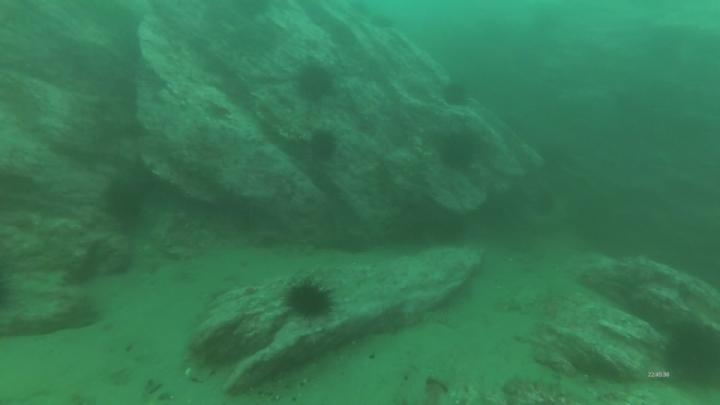echinus: (666, 327, 720, 392), (281, 278, 336, 324), (107, 170, 150, 224), (438, 130, 481, 175), (295, 65, 337, 104), (306, 126, 342, 168), (437, 78, 474, 112), (369, 13, 397, 34)
